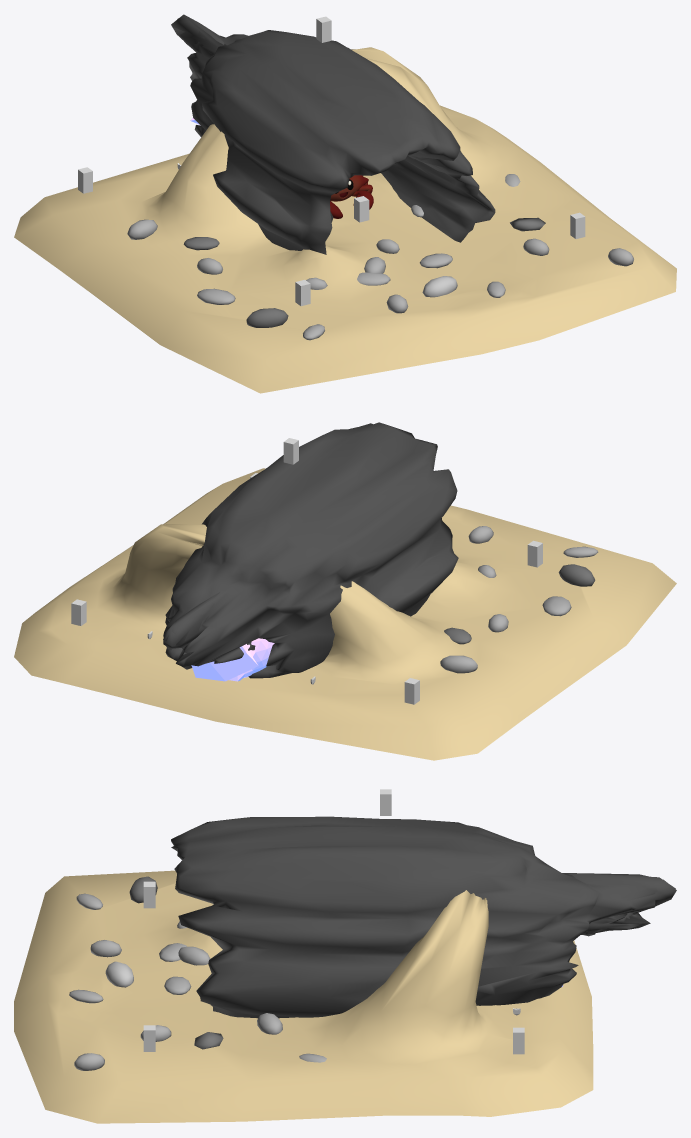
File: map.gltf
The picture shows the model from 3 angles, top to bottom: view 1: azimuth 30°, elevation 25°; view 2: azimuth 150°, elevation 25°; view 3: azimuth 270°, elevation 25°; orthographic projection. The views are drawn at different scales.
Parts seen in each view (by area): view 1: Plane, Torus, Icosphere.007, Icosphere.002; view 2: Plane, Torus, Icosphere, Icosphere.007, Icosphere.018; view 3: Plane, Torus, Icosphere.002.
Boxes of the visible parts, bbox=[...] form: Plane: bbox=[14, 47, 676, 393]; Torus: bbox=[171, 14, 495, 254]; Icosphere.007: bbox=[246, 308, 288, 327]; Icosphere.002: bbox=[422, 276, 457, 297]; Plane: bbox=[14, 468, 676, 760]; Torus: bbox=[163, 422, 458, 678]; Icosphere: bbox=[191, 638, 274, 681]; Icosphere.007: bbox=[558, 564, 595, 586]; Icosphere.018: bbox=[440, 655, 477, 673]; Plane: bbox=[14, 870, 593, 1123]; Torus: bbox=[171, 816, 676, 1018]; Icosphere.002: bbox=[105, 961, 133, 987].
Size of the model in its own units: 86.87 by 36.29 by 100.
